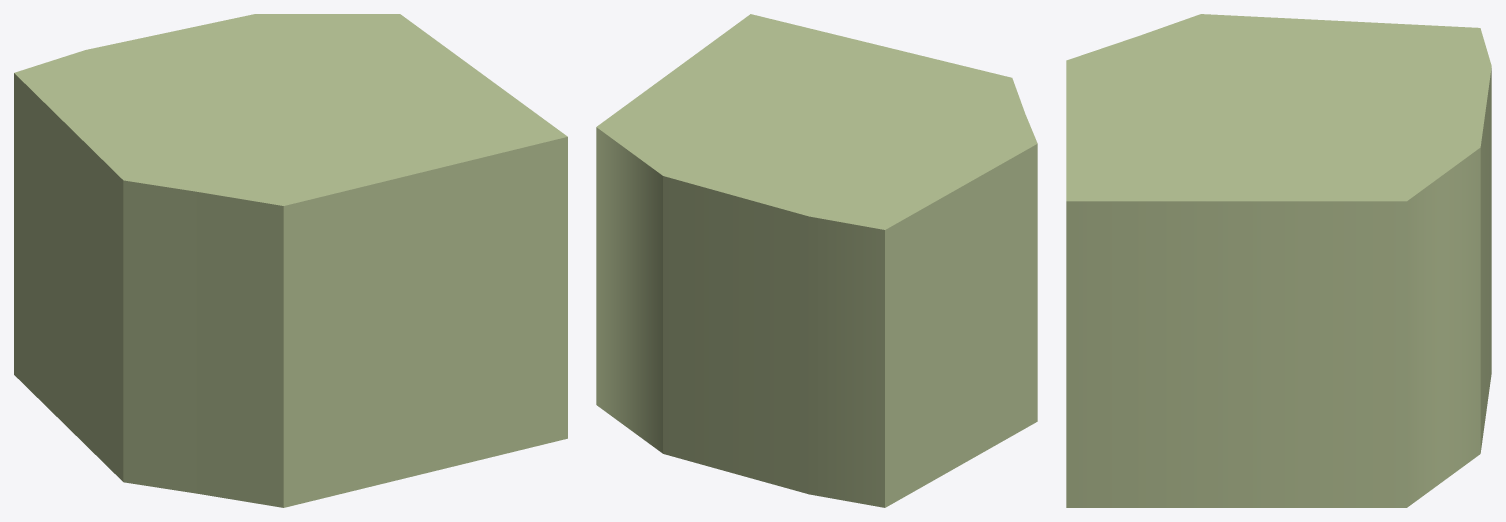
File: ground_12.gltf
3 renders of one model, left to right at view 1: azimuth 30°, elevation 25°; view 2: azimuth 150°, elevation 25°; view 3: azimuth 270°, elevation 25°, orthographic. The views are drawn at different scales.
Parts seen in each view (by area): view 1: paldal; view 2: paldal; view 3: paldal.
Boxes of the visible parts, x1=… form: paldal: x1=14, y1=14, x2=567, y2=507; paldal: x1=596, y1=14, x2=1037, y2=507; paldal: x1=1066, y1=14, x2=1491, y2=507.
Bounding box in the file's own units: 6.62 × 5.05 × 6.35.
